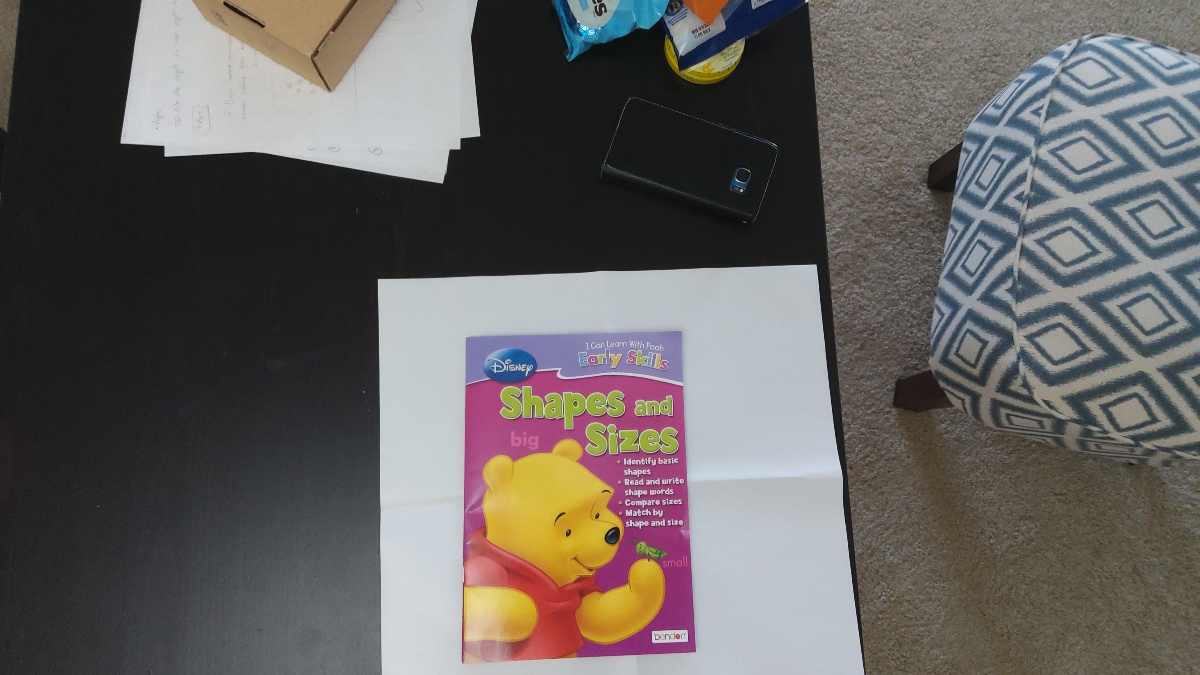book: (465, 337, 692, 657)
